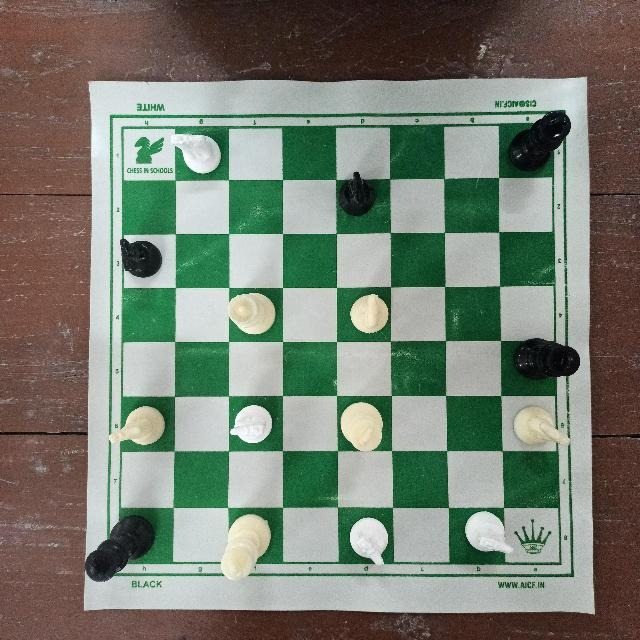black-king: (88, 510, 160, 590), (500, 104, 572, 172), (499, 337, 591, 385)
black-knight: (330, 172, 387, 226), (114, 232, 169, 286)
white-king: (204, 510, 277, 587), (332, 394, 389, 450)
white-knight: (460, 507, 522, 567), (156, 127, 228, 173), (101, 408, 168, 456), (507, 410, 575, 456), (340, 286, 392, 334), (344, 518, 391, 570), (224, 403, 279, 443)
white-queen: (223, 289, 278, 339)
